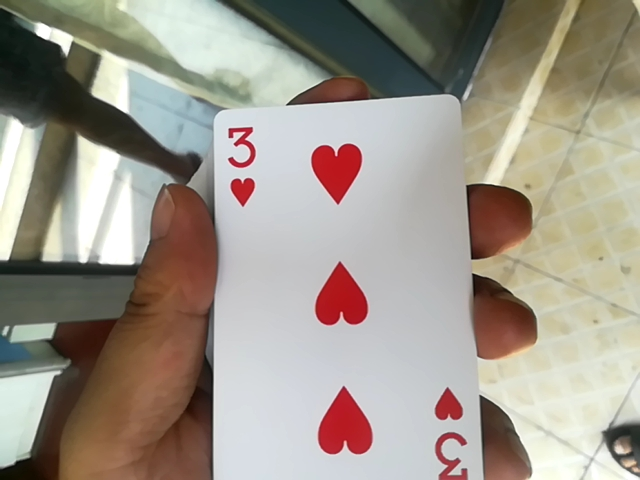hx 3: (201, 88, 467, 471)
